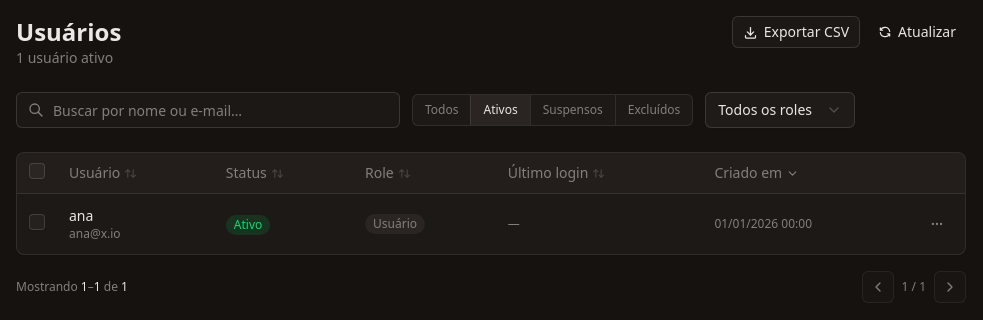
Test case: Admin › Usuários — resposta de filtro antigo › duas respostas fora de ordem: a tela fica com a do filtro ATUAL
The image size is (983, 320).
Check: the text "ana" is shown, box x1=69 y1=206 x2=93 y2=225
# Two filter changes in a row: both fetches are in flight together.
What coordinates should you click on to do the following:
click the button "Suspensos"
I would click on:
 (572, 110)
Its box is x1=530 y1=95 x2=615 y2=125.
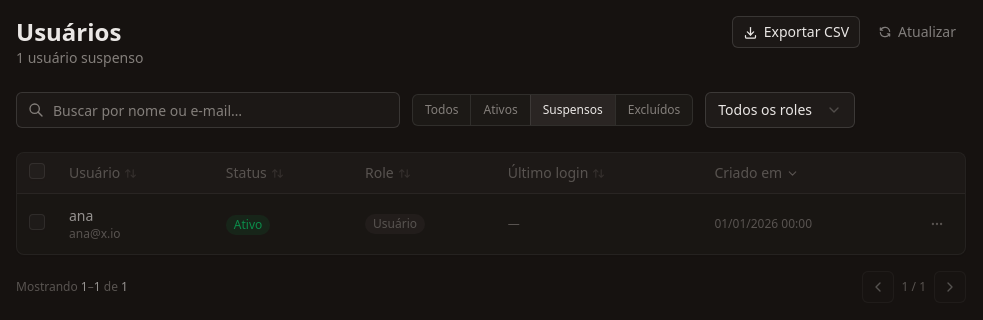
What coordinates should you click on to do the following:
click the button "Excluídos"
I would click on:
 (654, 110)
Its box is x1=615 y1=95 x2=692 y2=125.
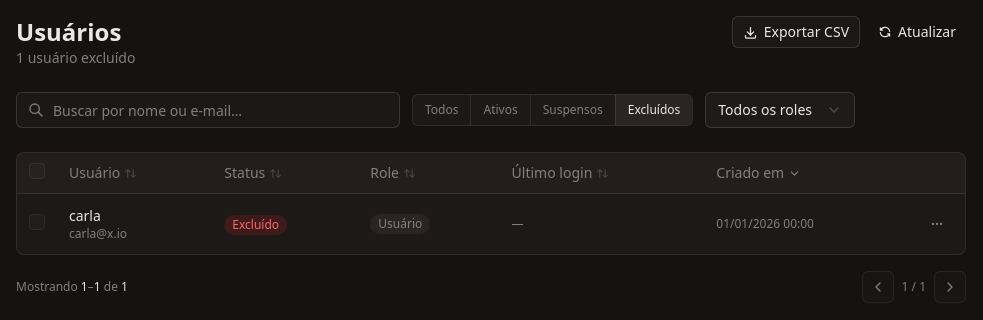
Check: the text "carla" is shown, box x1=69 y1=206 x2=101 y2=225
